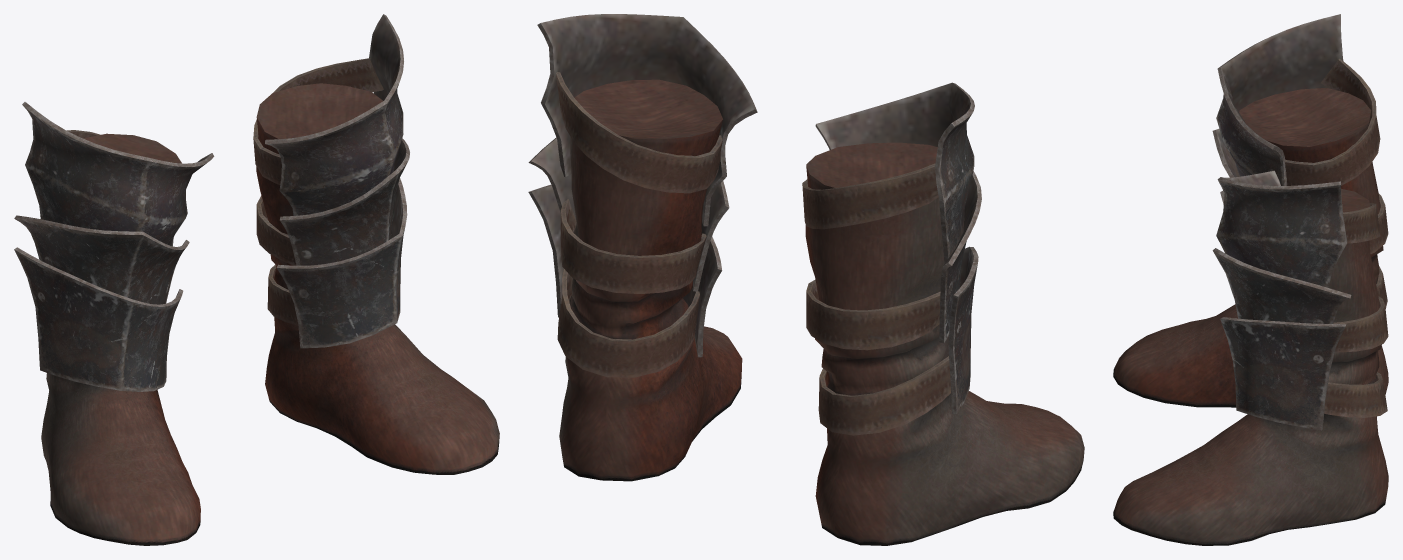
File: sk_dg_uruk_boots_heavy_b.fbx
3 views of the same model, side by side, from view 1: azimuth 30°, elevation 25°; view 2: azimuth 150°, elevation 25°; view 3: azimuth 270°, elevation 25° (orthographic). The views are drawn at different scales.
Visible parts, largest first — view 1: sk_dg_uruk_boots_heavy_b.0, sk_dg_uruk_boots_heavy_b.1; view 2: sk_dg_uruk_boots_heavy_b.0, sk_dg_uruk_boots_heavy_b.1; view 3: sk_dg_uruk_boots_heavy_b.0, sk_dg_uruk_boots_heavy_b.1.
Boxes of the visible parts, x1,y1,x2,y2 form: sk_dg_uruk_boots_heavy_b.0: (14,14,499,545); sk_dg_uruk_boots_heavy_b.1: (67,58,383,325); sk_dg_uruk_boots_heavy_b.0: (528,14,1084,545); sk_dg_uruk_boots_heavy_b.1: (556,72,950,435); sk_dg_uruk_boots_heavy_b.0: (1113,14,1388,545); sk_dg_uruk_boots_heavy_b.1: (1285,58,1388,417).
Size of the model in its own units: 0.5637 by 0.3359 by 0.4733.
Materials: 2 (2 with a texture image).
